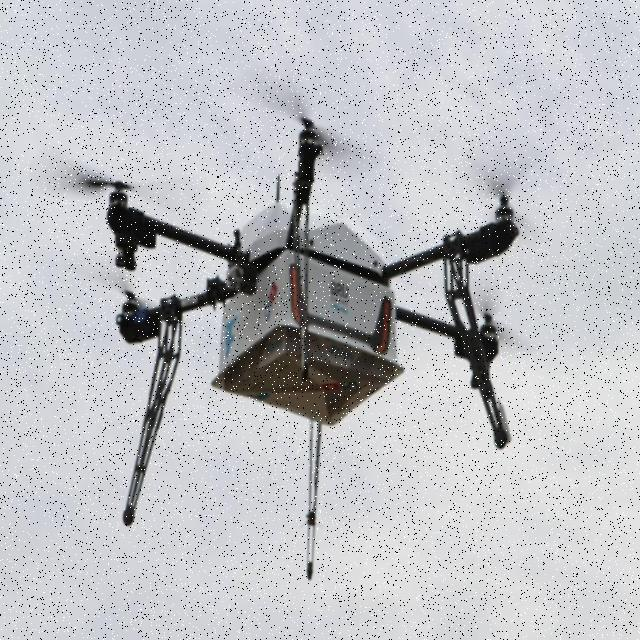UAV: (103, 120, 522, 530)
